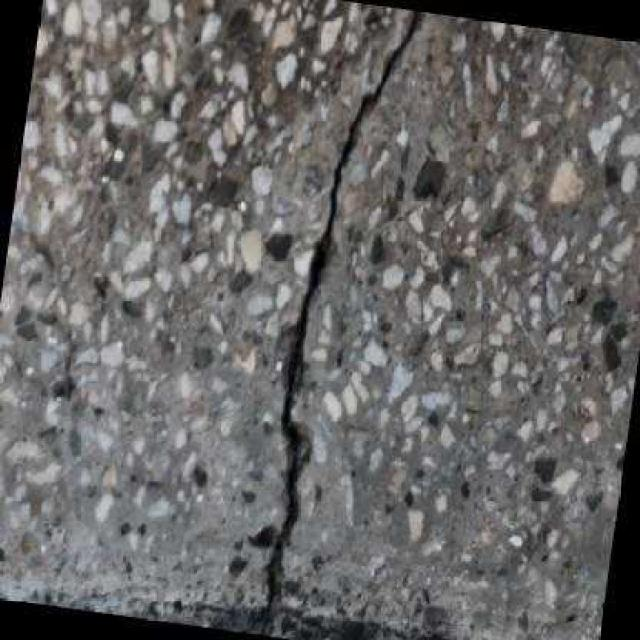D00: (257, 10, 421, 632)
